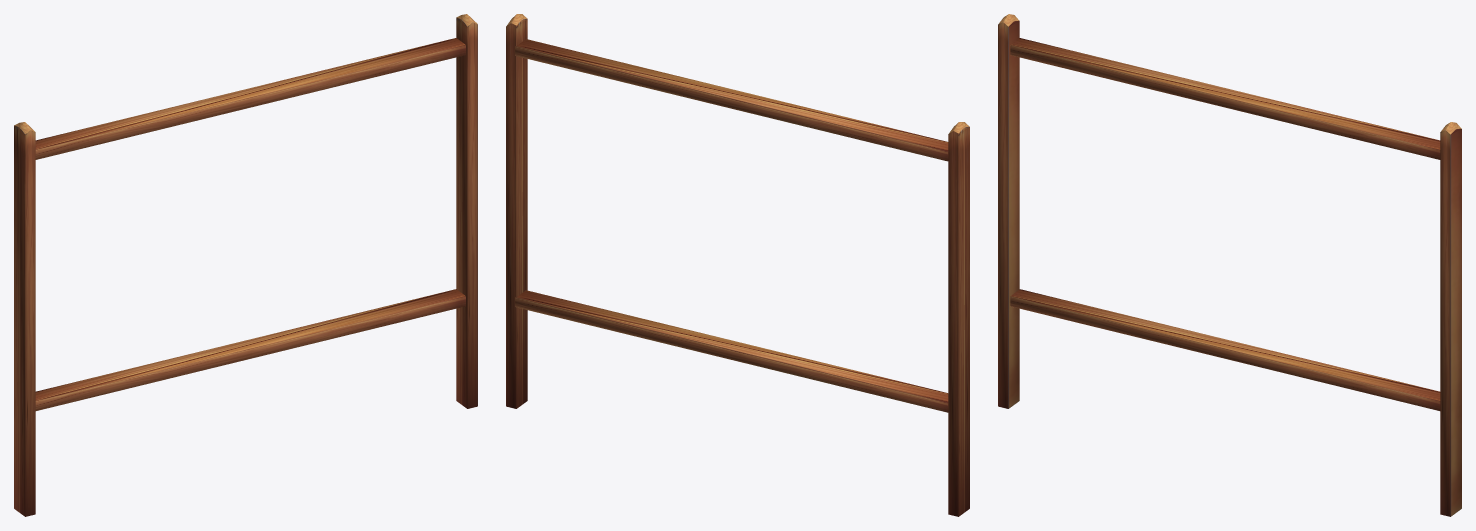
File: Daybreak-Board.fbx
3 views of the same model, side by side, from view 1: azimuth 30°, elevation 25°; view 2: azimuth 150°, elevation 25°; view 3: azimuth 330°, elevation 25° (orthographic).
Visible parts, largest first — view 1: platform.001; view 2: platform.001; view 3: platform.001.
Boxes of the visible parts, x1=… form: platform.001: x1=14, y1=14, x2=477, y2=516; platform.001: x1=506, y1=14, x2=969, y2=516; platform.001: x1=998, y1=14, x2=1461, y2=516.
Size of the model in its own units: 529 by 435 by 22.86.
Materials: 1 (1 with a texture image).
